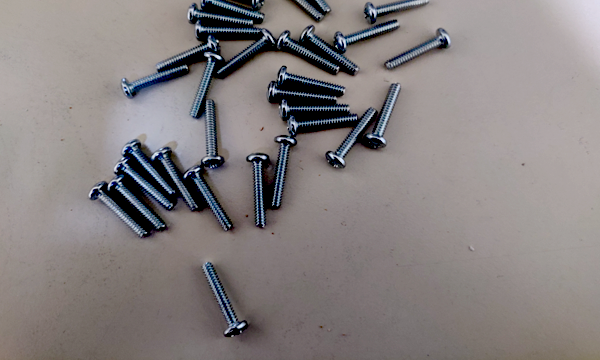longscrew: (197, 258, 245, 338), (186, 163, 234, 235), (324, 105, 376, 171), (148, 146, 201, 208), (124, 139, 177, 201), (117, 154, 173, 212), (110, 174, 166, 232), (90, 181, 146, 239), (296, 25, 358, 77), (117, 60, 192, 100), (384, 29, 457, 70), (211, 33, 276, 79), (273, 31, 340, 75), (366, 84, 406, 152), (332, 14, 399, 52), (273, 134, 301, 216), (244, 150, 271, 233), (156, 34, 217, 69), (275, 66, 347, 95), (190, 55, 223, 118), (282, 111, 360, 137), (275, 101, 353, 127), (263, 82, 340, 108), (363, 0, 431, 25), (187, 0, 249, 27), (198, 98, 220, 172), (200, 0, 263, 21), (187, 24, 265, 39), (269, 0, 319, 18), (281, 0, 331, 9), (200, 0, 263, 7)
